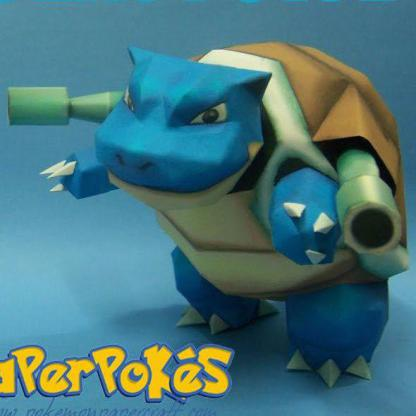Blastoise: (1, 13, 416, 416)
